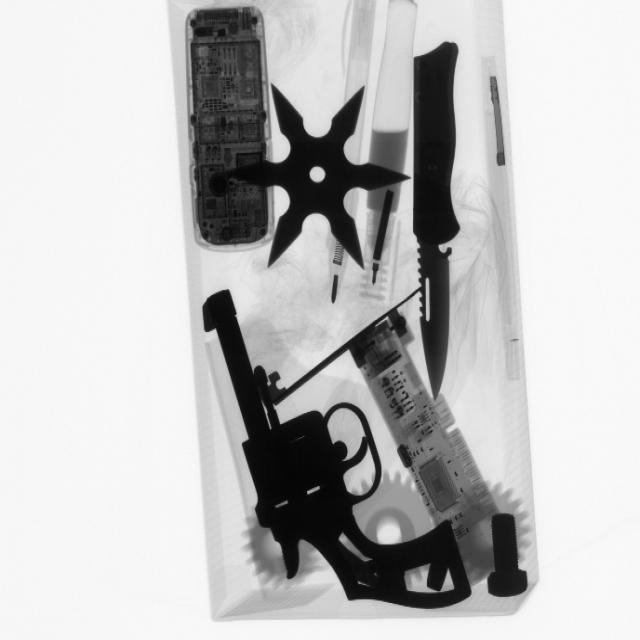GUN: (202, 286, 478, 617)
KNIFE: (402, 51, 475, 392)
SHURIKEN: (229, 72, 405, 273)
